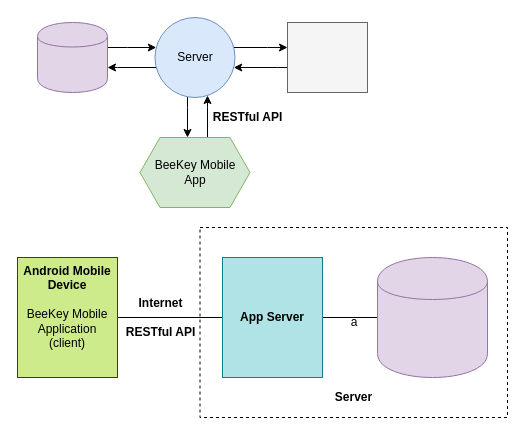
The diagram is 525 pixels wide and 435 high, and some of its shapes have lost their labels. The centre of each missing label's shape, as x and y in pixels:
Banking system (E-Wallet): (x=327, y=57)
Database (MariaDB): (x=72, y=57)
MariaDB Database of BeeKey application: (x=432, y=317)
